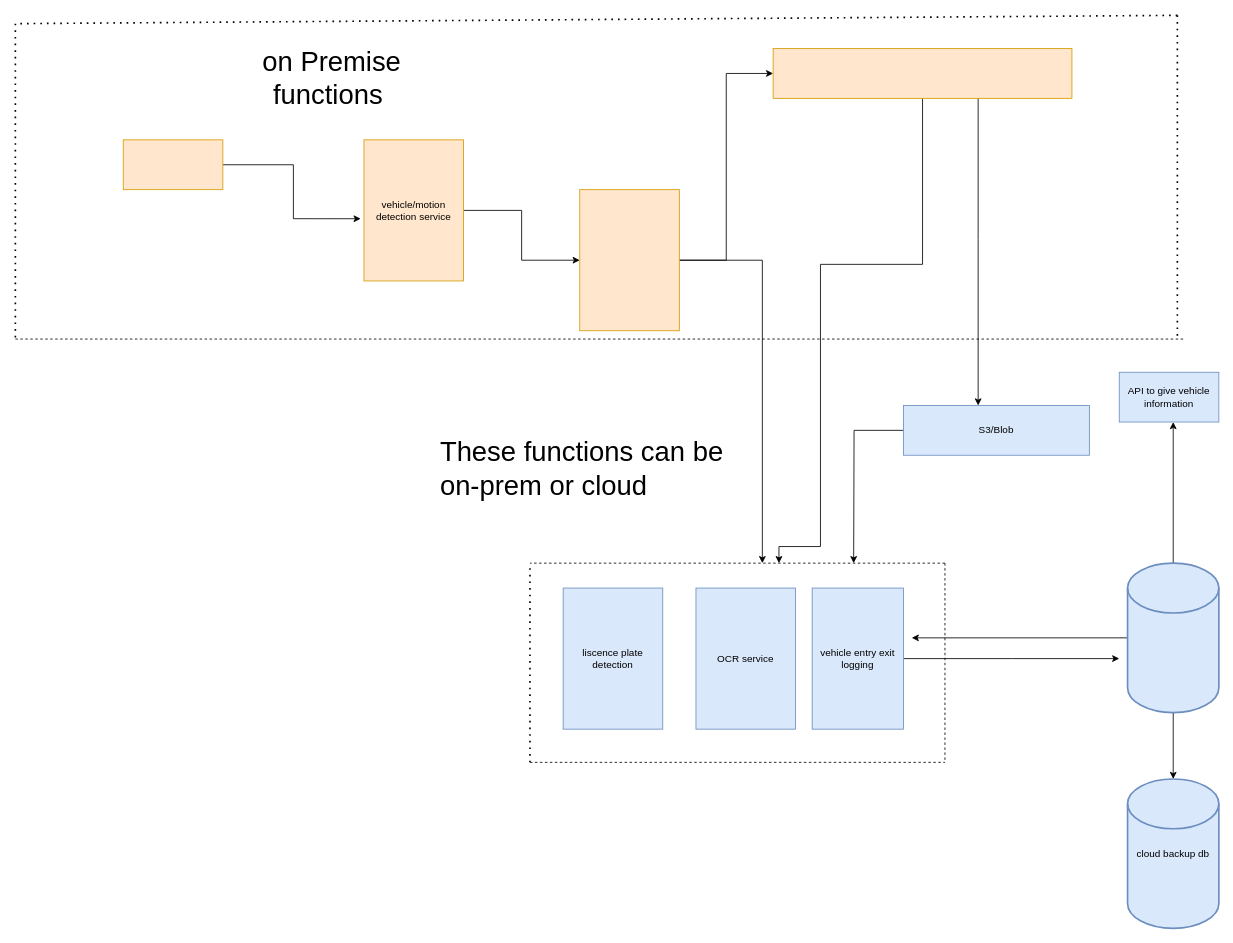
Some shapes in this 1233 by 943 pixel diagram are drawn without their labels. Each missing label, with the centre of its shape:
camera feed: [172,164]
DB: [1172,637]
Frame + entry / exit time stamp detection: [629,260]
Image Dump / data dump local: [922,73]
